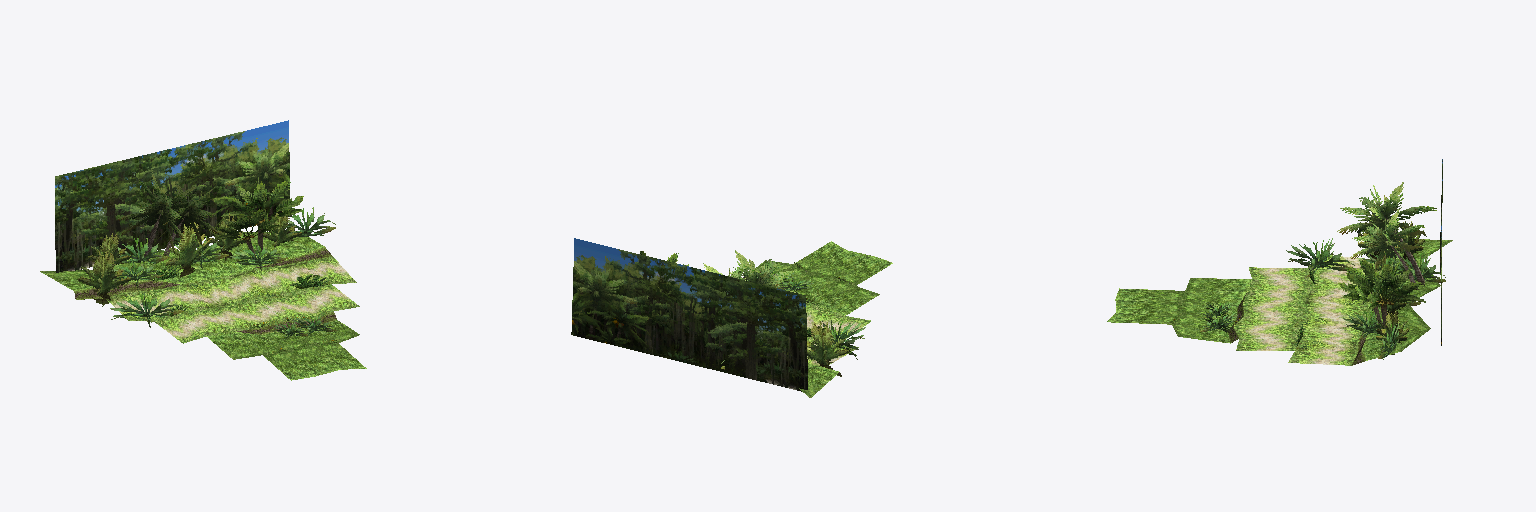
The picture shows the model from 3 angles: view 1: azimuth 30°, elevation 25°; view 2: azimuth 150°, elevation 25°; view 3: azimuth 270°, elevation 25°; orthographic projection.
Parts seen in each view (by area): view 1: SummerForest; view 2: SummerForest; view 3: SummerForest.
Part boxes in pixels (bbox=[...]): SummerForest: bbox=[40, 120, 366, 380]; SummerForest: bbox=[571, 238, 892, 397]; SummerForest: bbox=[1107, 159, 1452, 365].
Size of the model in its own units: 15.3 by 6.74 by 17.78.
Materials: 4 (4 with a texture image).